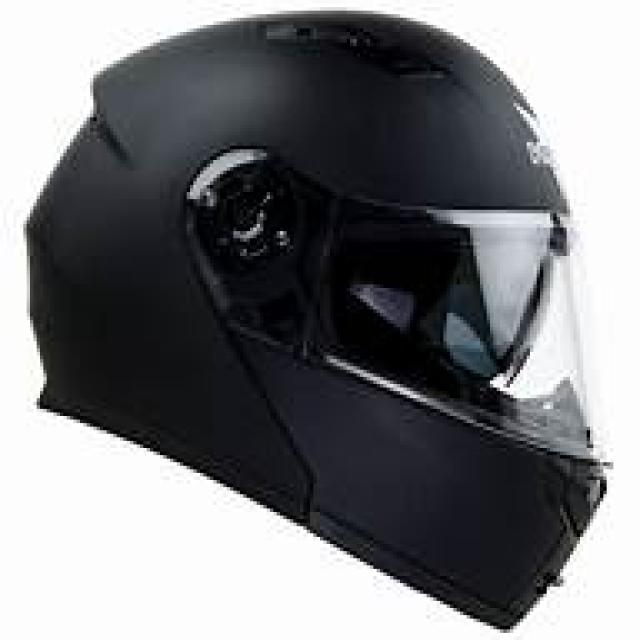helmet: (27, 11, 607, 626)
